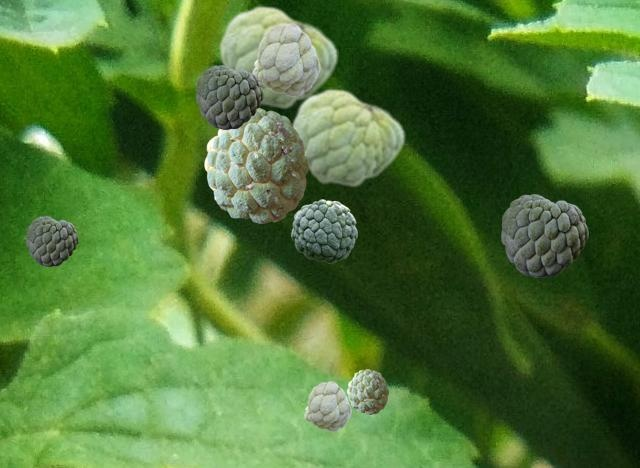atis: (218, 4, 337, 109), (204, 108, 307, 222), (290, 87, 404, 187), (501, 194, 587, 276), (252, 23, 319, 95), (196, 65, 262, 128), (291, 199, 356, 262), (26, 216, 77, 265), (304, 381, 350, 430), (347, 369, 387, 413)
